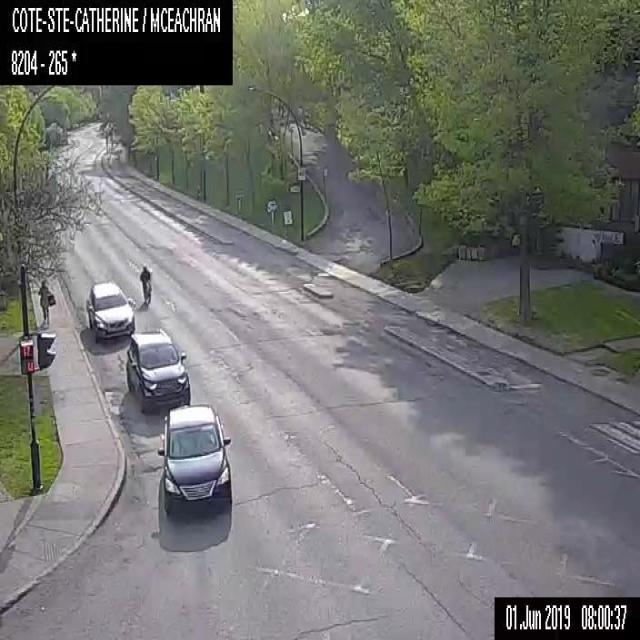cyclist: (138, 264, 151, 307)
pedestrian: (36, 280, 56, 327)
vehicle: (158, 403, 232, 508), (125, 326, 189, 411), (84, 279, 134, 340)
